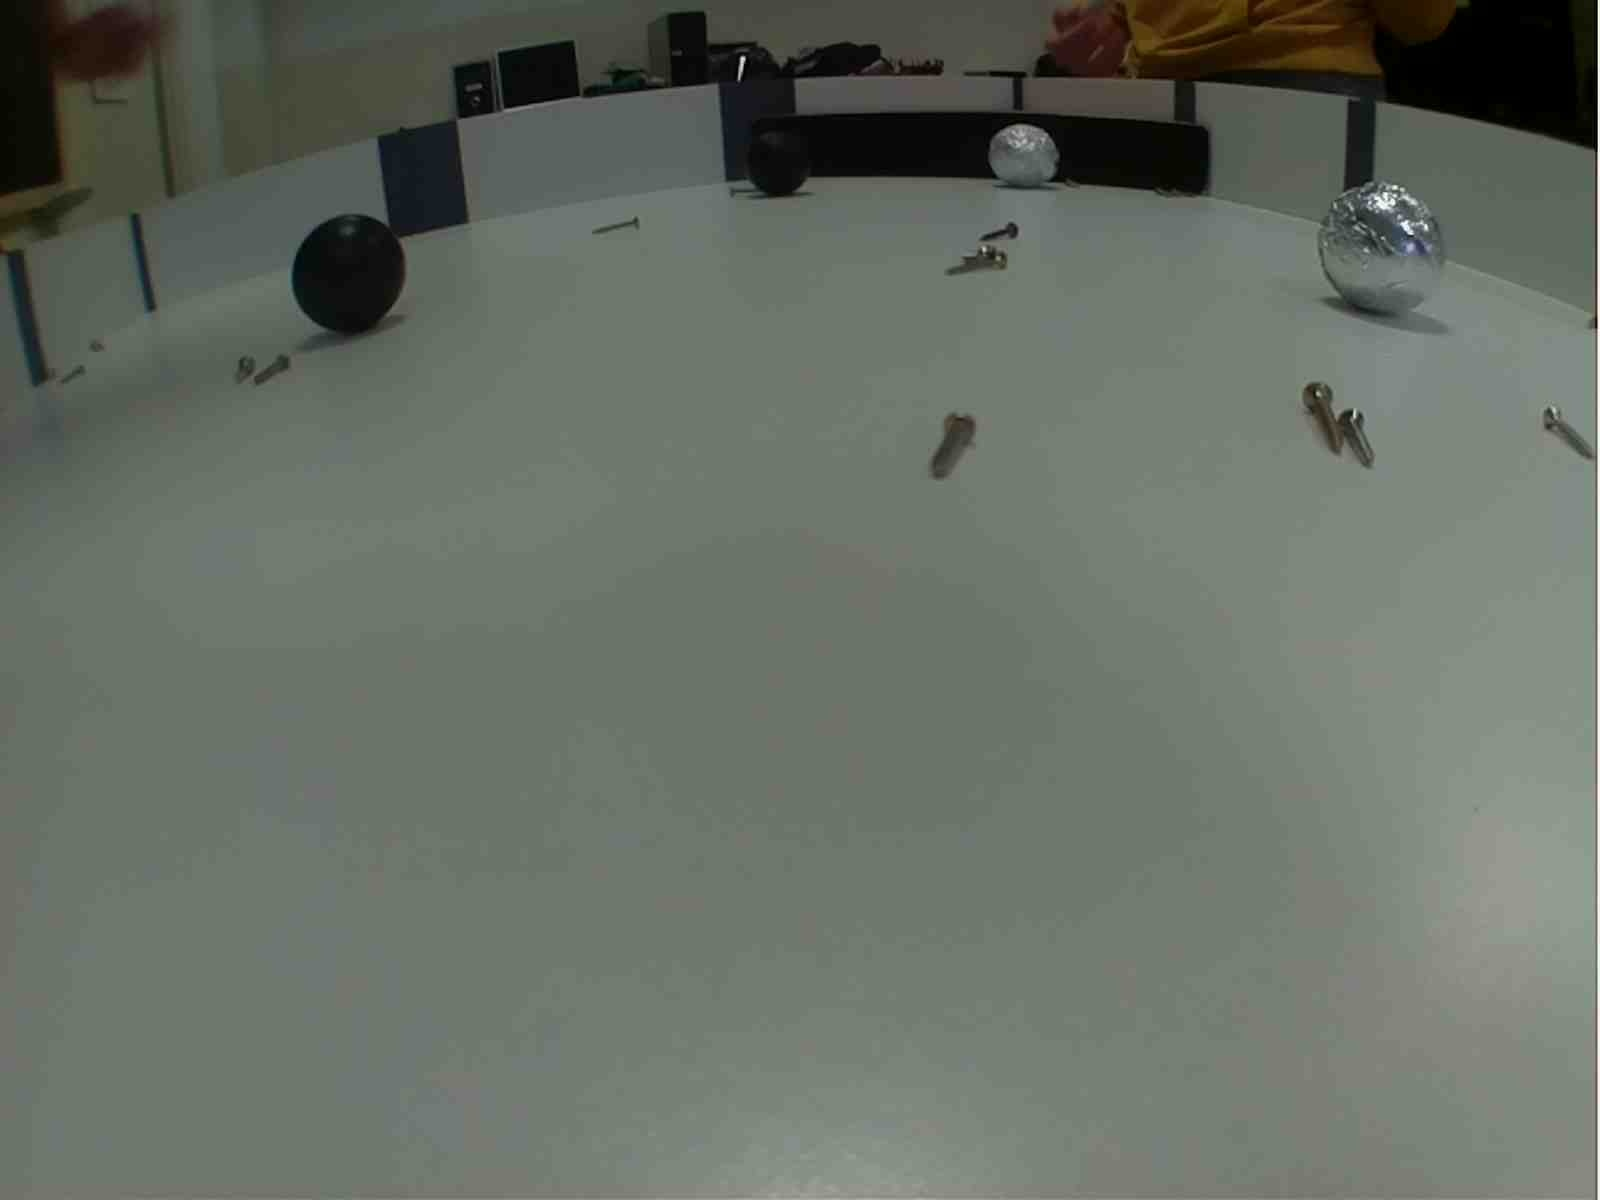bianca: (1318, 182, 1450, 324), (988, 121, 1060, 190)
nera: (285, 212, 409, 355), (743, 127, 810, 202)
